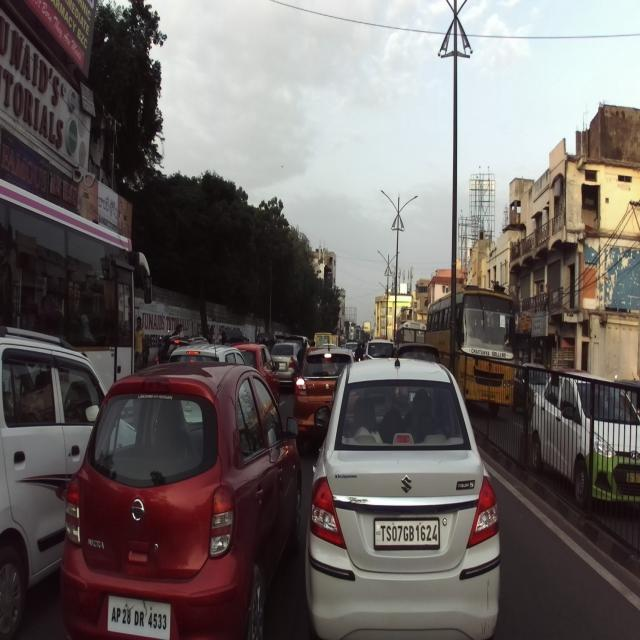Car_Maruti-Suzuki: (303, 357, 501, 639), (0, 320, 109, 639), (292, 348, 354, 447)
Car_Nissan: (57, 360, 310, 638)
bus: (0, 200, 153, 391)
